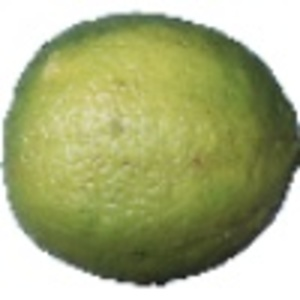limão: (1, 1, 300, 287)
